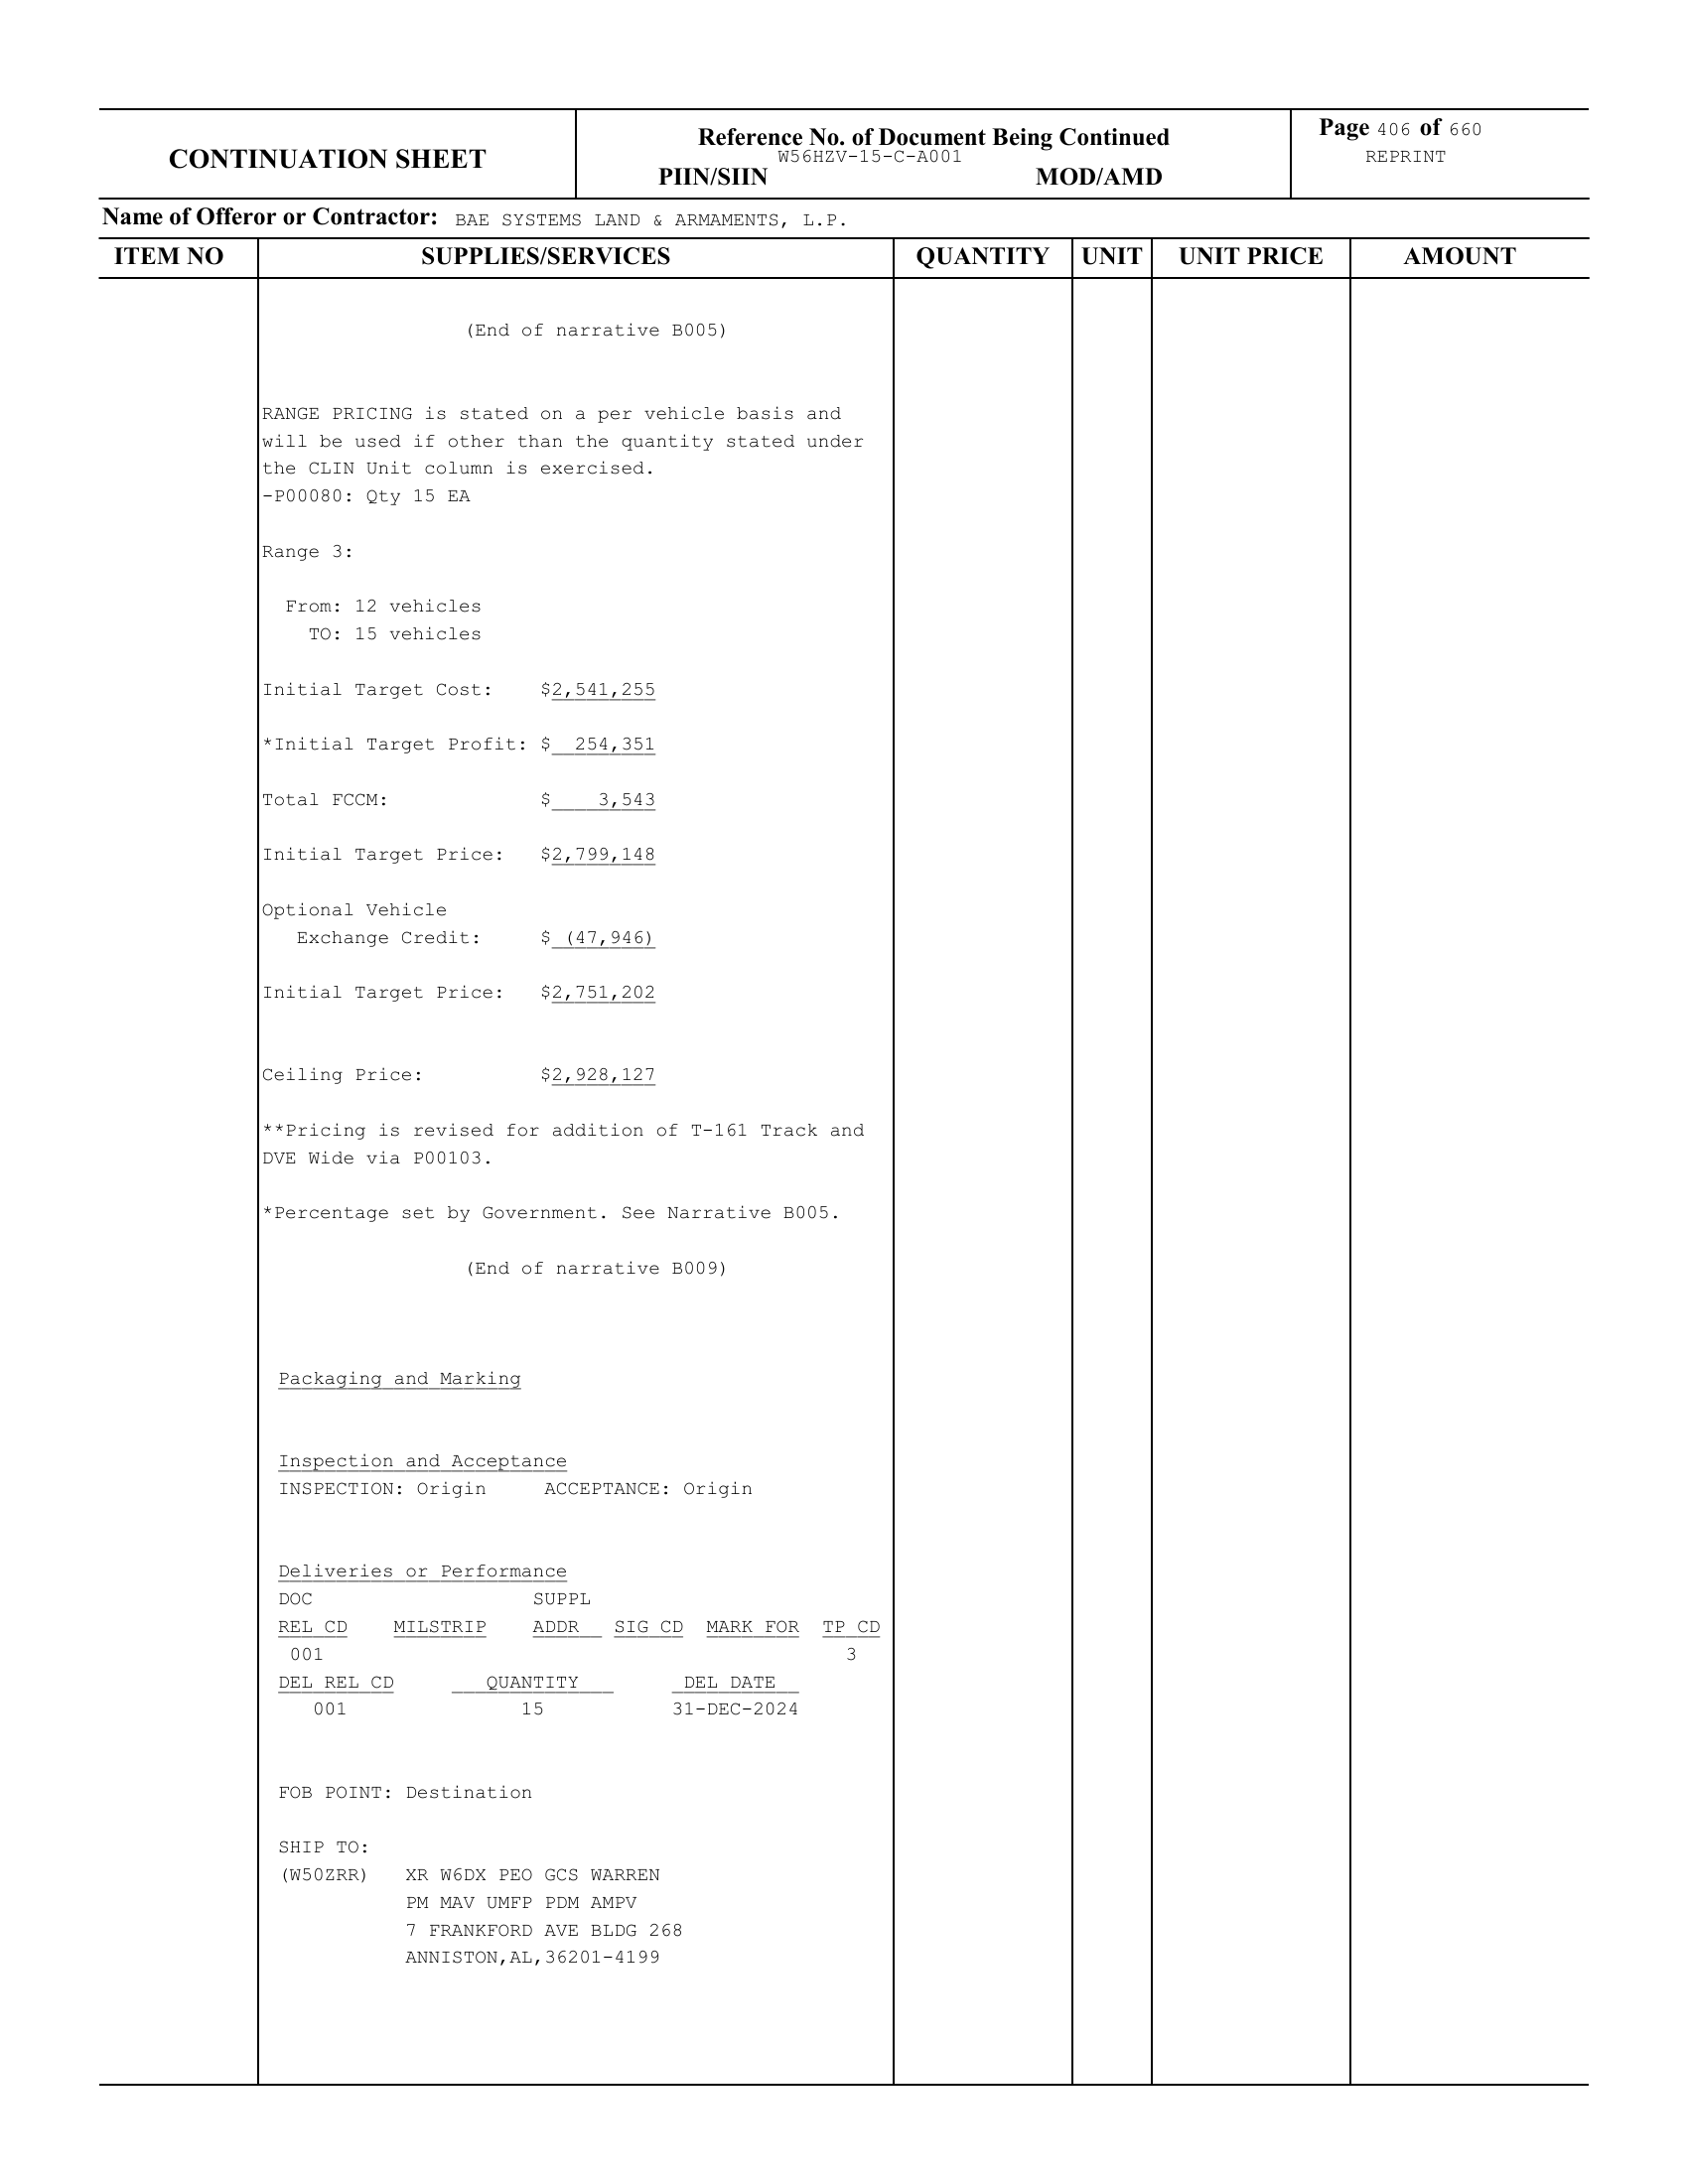table: (103, 241, 1582, 2078)
